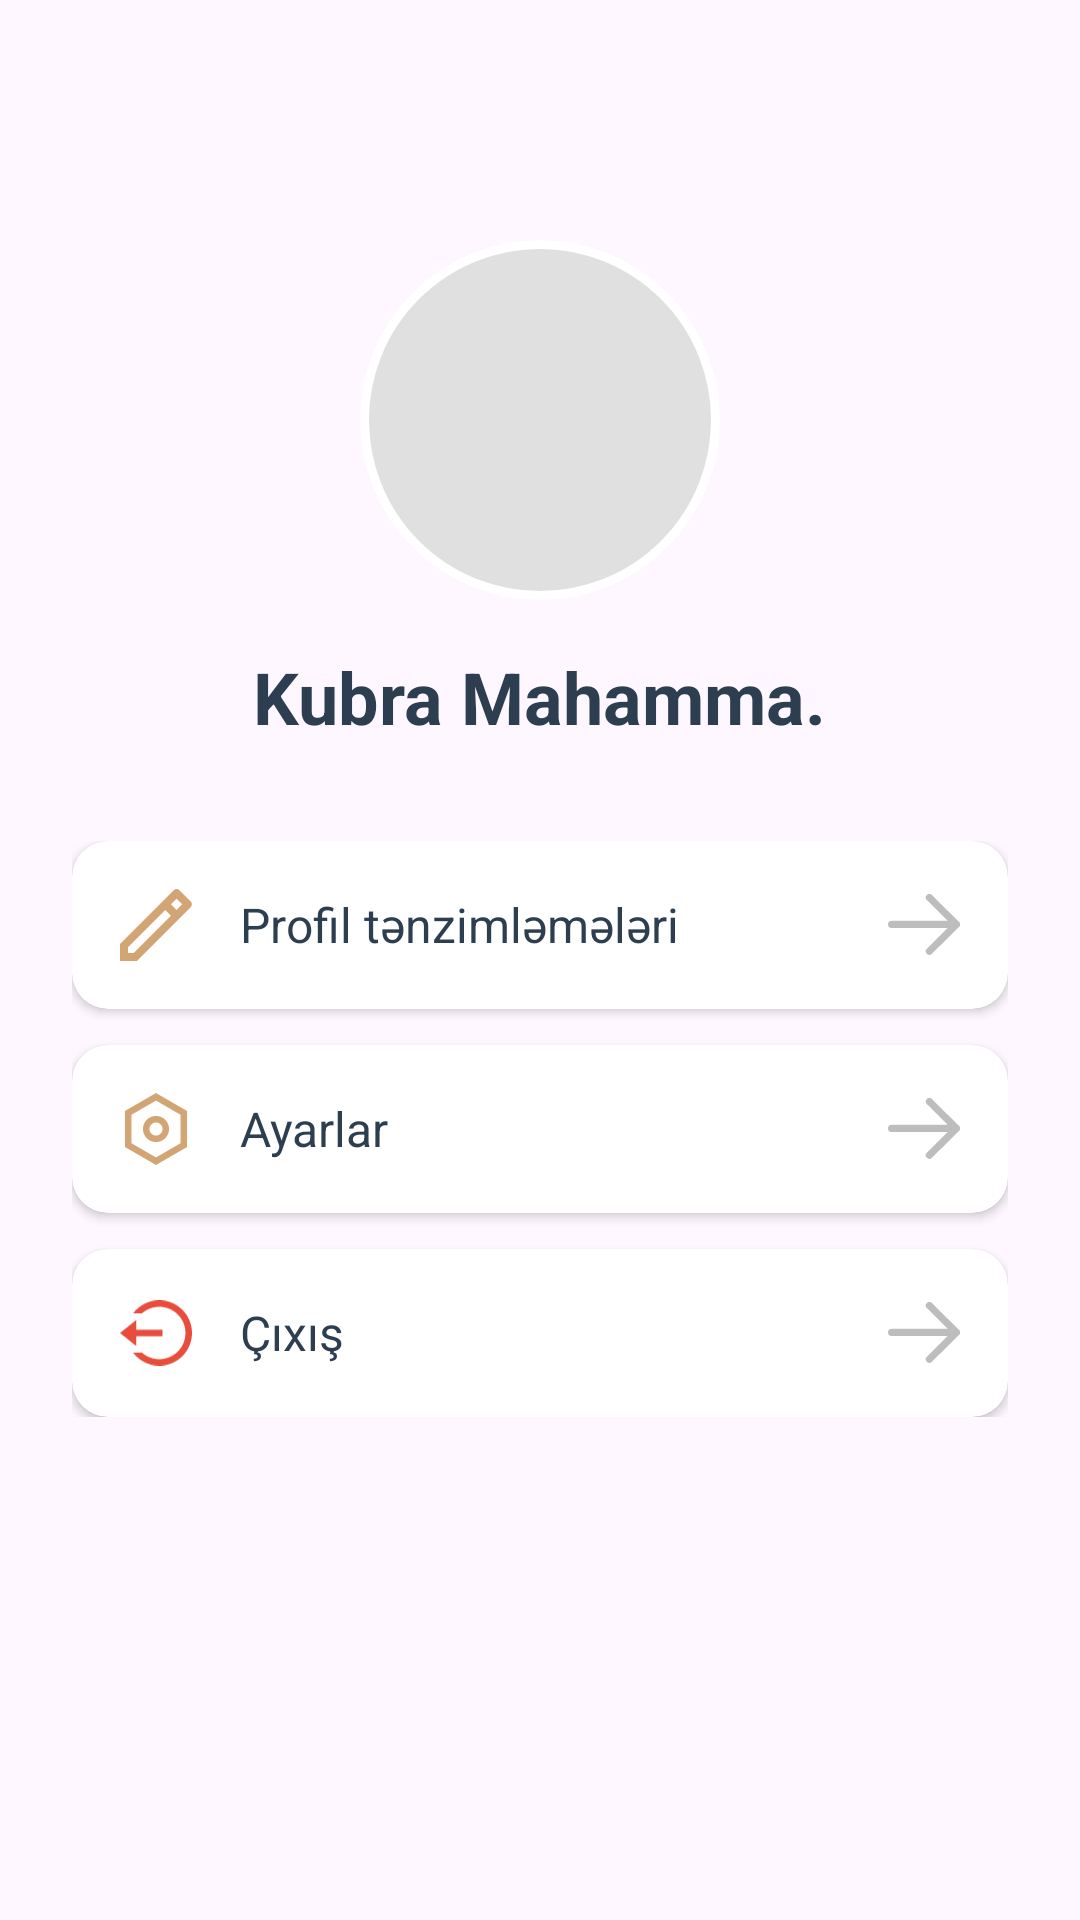

Where icons sit on this 1080*1920 app screen, as [x1=x1, y1=y1, x2=x2, y2=y2]:
arrow forward: [x1=888, y1=894, x2=960, y2=955], [x1=888, y1=1098, x2=960, y2=1159], [x1=888, y1=1302, x2=960, y2=1363]
exit: [x1=120, y1=1300, x2=192, y2=1366]
setting: [x1=125, y1=1093, x2=187, y2=1165]
